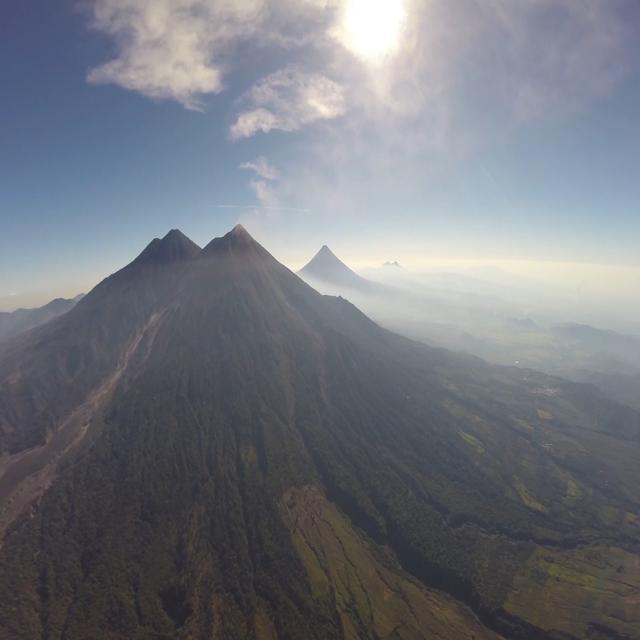Summit: (226, 220, 253, 240)
